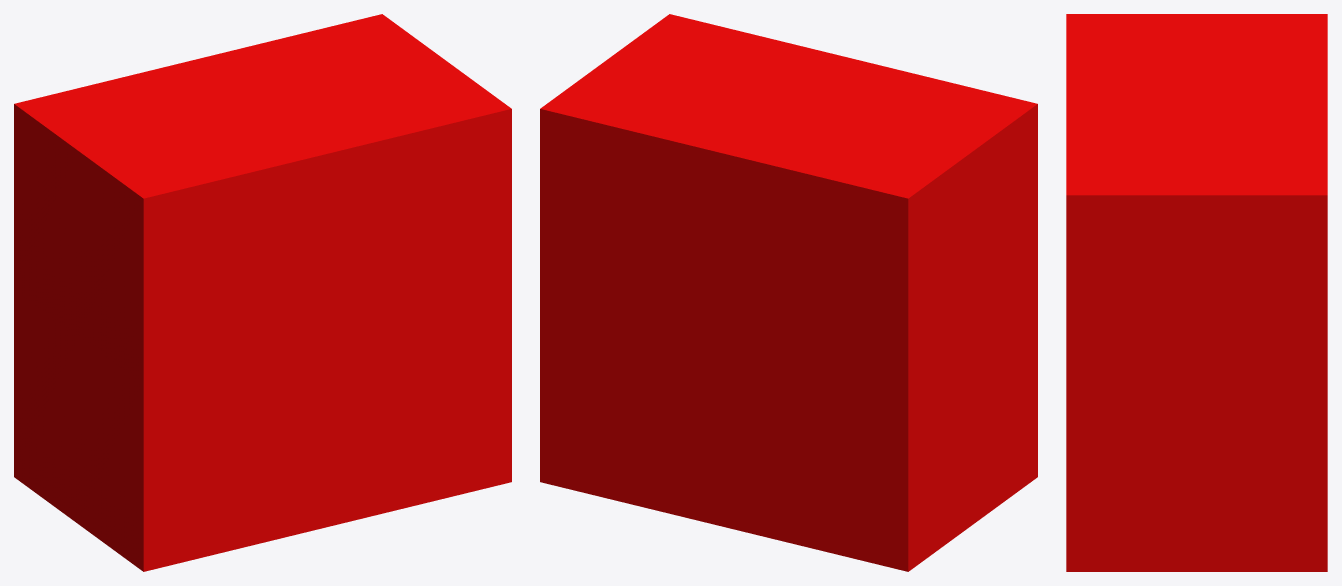
File: thoracic6_s_col.dae
The picture shows the model from 3 angles, left to right: view 1: azimuth 30°, elevation 25°; view 2: azimuth 150°, elevation 25°; view 3: azimuth 270°, elevation 25°; orthographic projection.
Visible parts, largest first — view 1: node0; view 2: node0; view 3: node0.
Part boxes in pixels (bbox=[...]): node0: bbox=[14, 14, 511, 571]; node0: bbox=[540, 14, 1037, 571]; node0: bbox=[1066, 14, 1327, 571].
Bounding box in the file's own units: 0.076 × 0.0736 × 0.0463.
